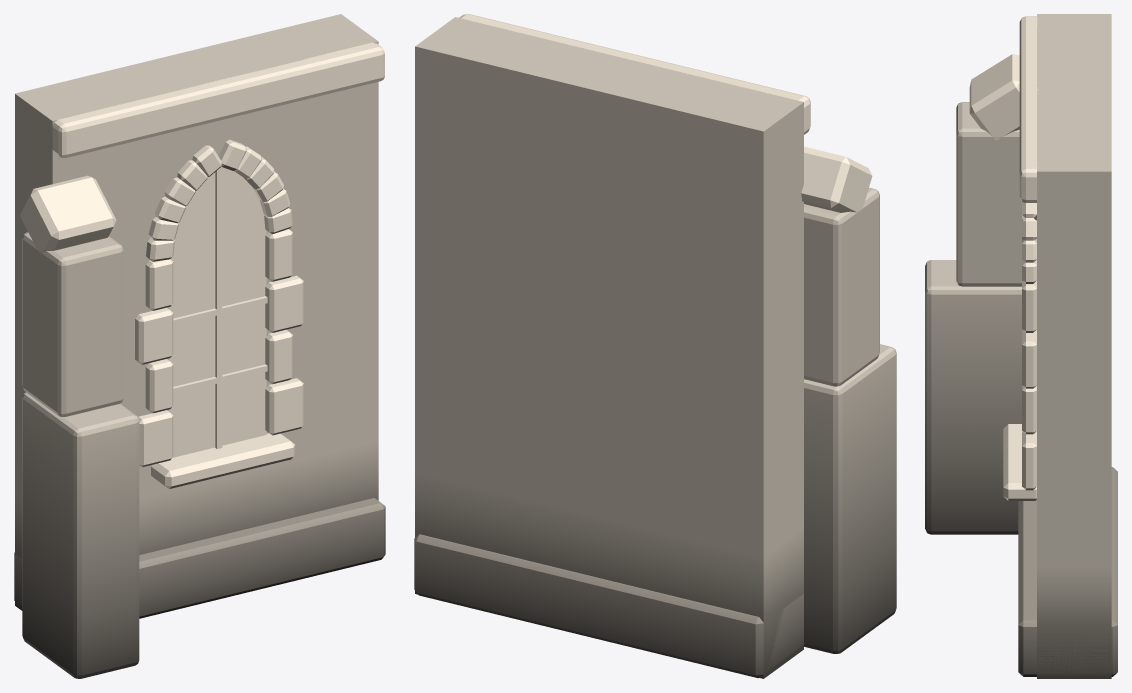
Rendered from SM_VK_Chapel_Wall.fbx.
3 renders of one model, left to right at view 1: azimuth 30°, elevation 25°; view 2: azimuth 150°, elevation 25°; view 3: azimuth 270°, elevation 25°, orthographic. The views are drawn at different scales.
Parts seen in each view (by area): view 1: SM_VK_Chapel_Wall.001; view 2: SM_VK_Chapel_Wall.001; view 3: SM_VK_Chapel_Wall.001.
Part boxes in pixels (left/top/right/bottom): SM_VK_Chapel_Wall.001: left=14, top=14, right=385, bottom=678; SM_VK_Chapel_Wall.001: left=414, top=14, right=896, bottom=678; SM_VK_Chapel_Wall.001: left=925, top=14, right=1117, bottom=678.
Size of the model in its own units: 3.3 by 4.5 by 1.55.
